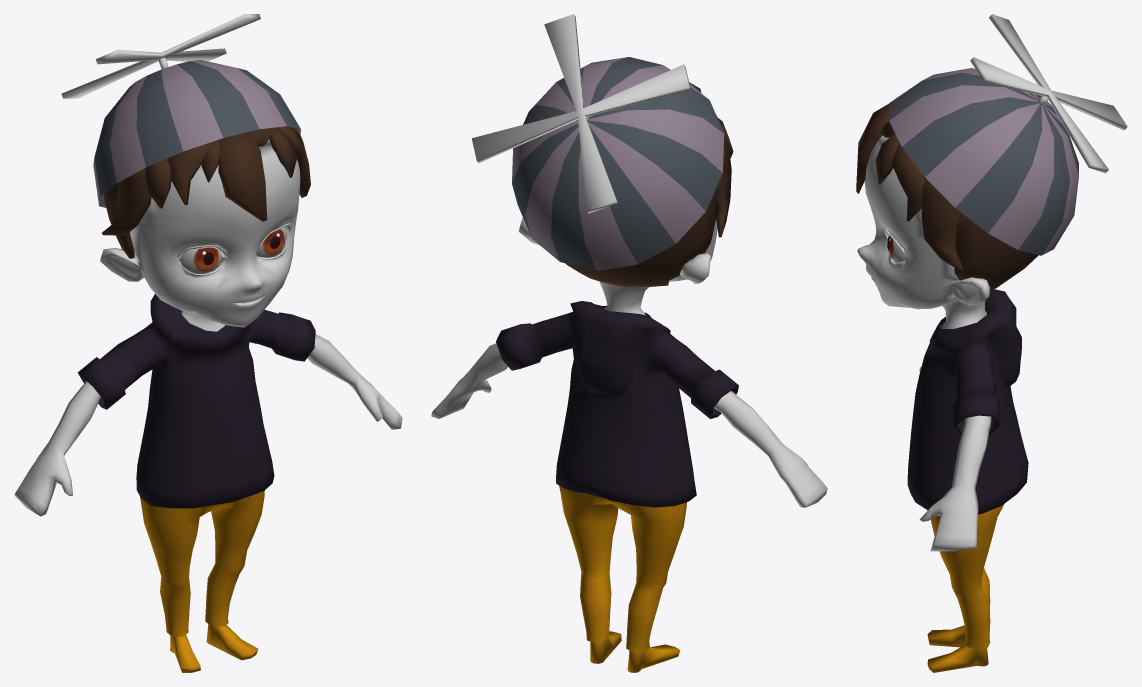
Rendered from mod_child_boy.fbx.
3 renders of one model, left to right at view 1: azimuth 30°, elevation 25°; view 2: azimuth 150°, elevation 25°; view 3: azimuth 270°, elevation 25°, orthographic. The views are drawn at different scales.
Parts seen in each view (by area): view 1: BoyModel; view 2: BoyModel; view 3: BoyModel.
Part boxes in pixels (box(x1,y1,x2,y2)): BoyModel: box(14, 14, 402, 672); BoyModel: box(431, 14, 827, 672); BoyModel: box(856, 14, 1127, 672).
Bounding box in the file's own units: 62.8 × 102 × 40.36.
